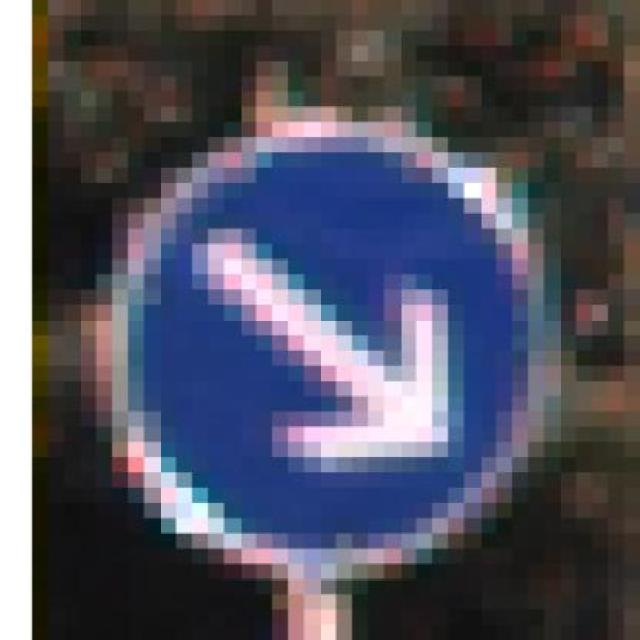Keep-Right: (80, 91, 592, 594)
